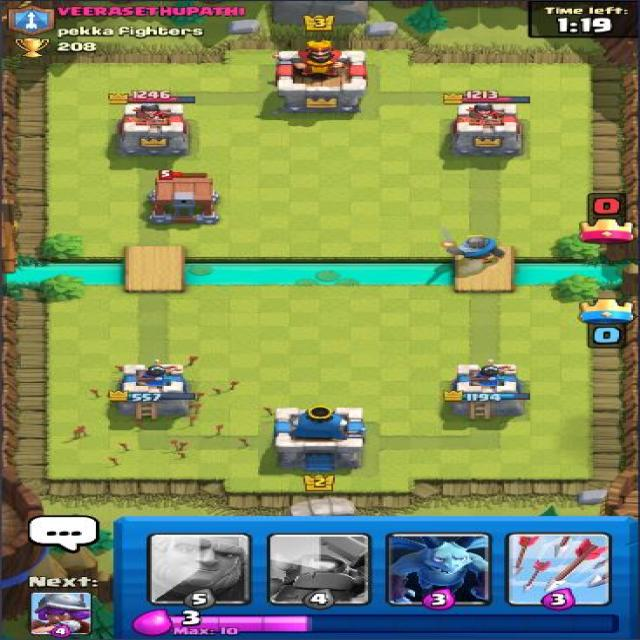Enemy-GoblinCage: (143, 168, 227, 226)
Player-Knight: (436, 217, 511, 265)
